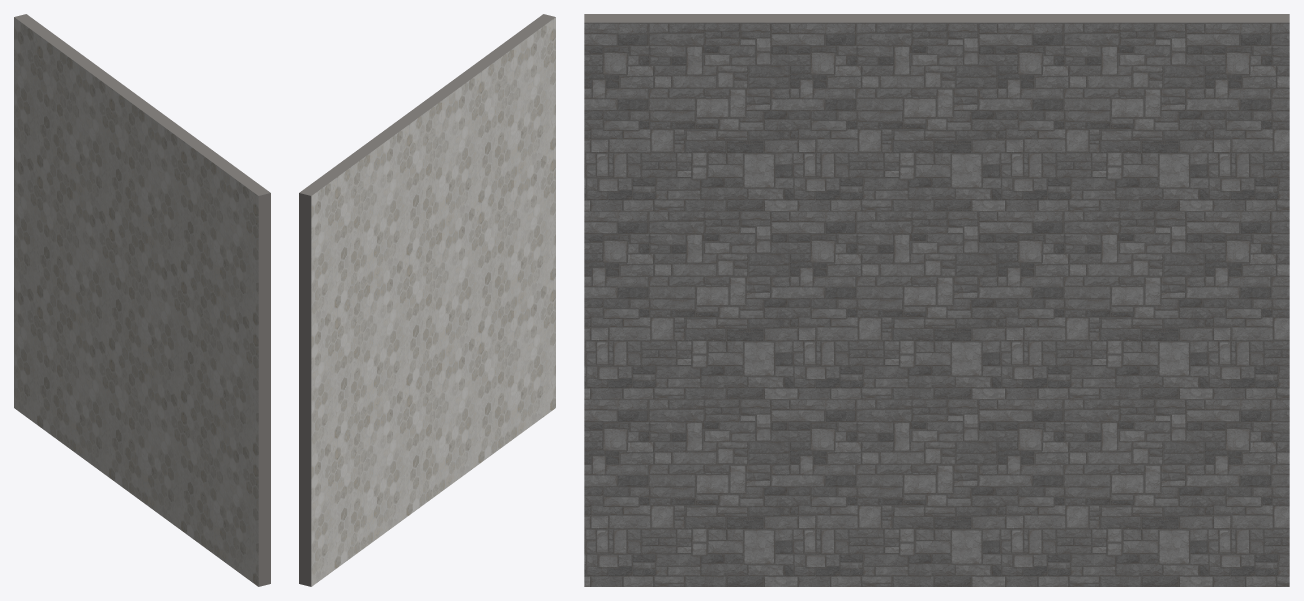
Rendered from wall_23.dae.
The picture shows the model from 3 angles, left to right: view 1: azimuth 30°, elevation 25°; view 2: azimuth 150°, elevation 25°; view 3: azimuth 270°, elevation 25°; orthographic projection. The views are drawn at different scales.
Visible parts, largest first — view 1: Wall; view 2: Wall; view 3: Wall.
Part boxes in pixels (x1,y1,x2,y2): Wall: (14, 14, 270, 586); Wall: (299, 14, 555, 586); Wall: (584, 14, 1289, 586).
Size of the model in its own units: 0.1 by 3.4 by 3.
